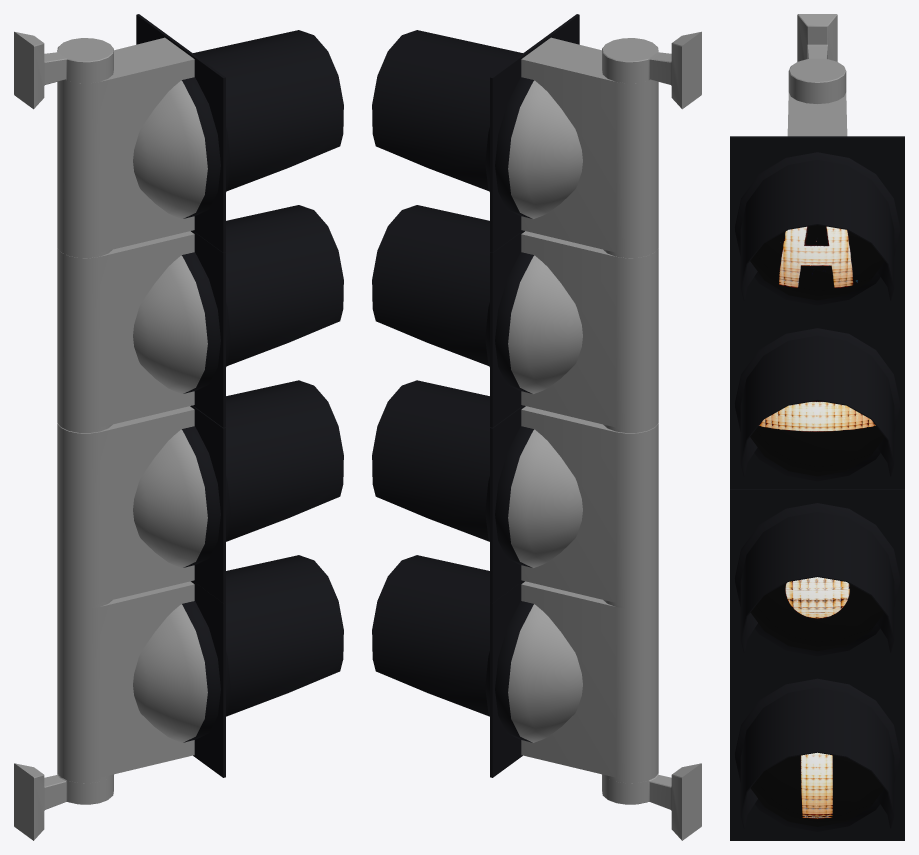
The model's file is Ampel_Strassenbahn_1_Mast.glb.
3 renders of one model, left to right at view 1: azimuth 30°, elevation 25°; view 2: azimuth 150°, elevation 25°; view 3: azimuth 270°, elevation 25°, orthographic.
Visible parts, largest first — view 1: Cube.004, Cube.005, Cube.003, Cube.001, Sonnenblende.002, Sonnenblende.003, Sonnenblende, Sonnenblende.001, BezierCurve.004, BezierCurve.003, BezierCurve.002, BezierCurve.001 (+6 smaller); view 2: Cube.004, Cube.005, Cube.003, Cube.001, Sonnenblende.002, Sonnenblende.003, Sonnenblende, Sonnenblende.001, BezierCurve.004, BezierCurve.003, BezierCurve.002, BezierCurve.001 (+6 smaller); view 3: Blende.002, Blende, Blende.001, Blende.003, Sonnenblende.003, Sonnenblende, Sonnenblende.001, Sonnenblende.002, BezierCurve.004, BezierCurve.001, BezierCurve.003, BezierCurve.002 (+2 smaller).
Boxes of the visible parts, x1,y1,x2,y2 form: Cube.004: (57,37,194,258); Cube.005: (57,406,194,608); Cube.003: (57,231,194,432); Cube.001: (57,581,194,783); Sonnenblende.002: (193,30,343,190); Sonnenblende.003: (226,555,343,716); Sonnenblende: (225,380,343,541); Sonnenblende.001: (226,205,343,365); BezierCurve.004: (133,601,230,742); BezierCurve.003: (133,77,230,218); BezierCurve.002: (133,252,230,393); BezierCurve.001: (133,426,230,567); Cube.004: (521,37,658,258); Cube.005: (521,406,658,608); Cube.003: (521,231,658,432); Cube.001: (521,581,658,783); Sonnenblende.002: (372,30,522,190); Sonnenblende.003: (372,555,489,716); Sonnenblende: (372,380,490,541); Sonnenblende.001: (372,205,489,365); BezierCurve.004: (485,601,582,742); BezierCurve.003: (485,77,582,218); BezierCurve.002: (485,252,582,393); BezierCurve.001: (485,426,582,567); Blende.002: (730,136,904,313); Blende: (730,489,904,665); Blende.001: (730,313,904,488); Blende.003: (730,665,904,840); Sonnenblende.003: (740,687,894,828); Sonnenblende: (740,512,894,652); Sonnenblende.001: (740,335,894,476); Sonnenblende.002: (740,160,894,300); BezierCurve.004: (735,678,899,831); BezierCurve.001: (734,503,900,656); BezierCurve.003: (734,152,900,305); BezierCurve.002: (734,328,900,481).
Size of the model in its own units: 0.4823 by 1.26 by 0.2502.
6 materials, 6 textured.
